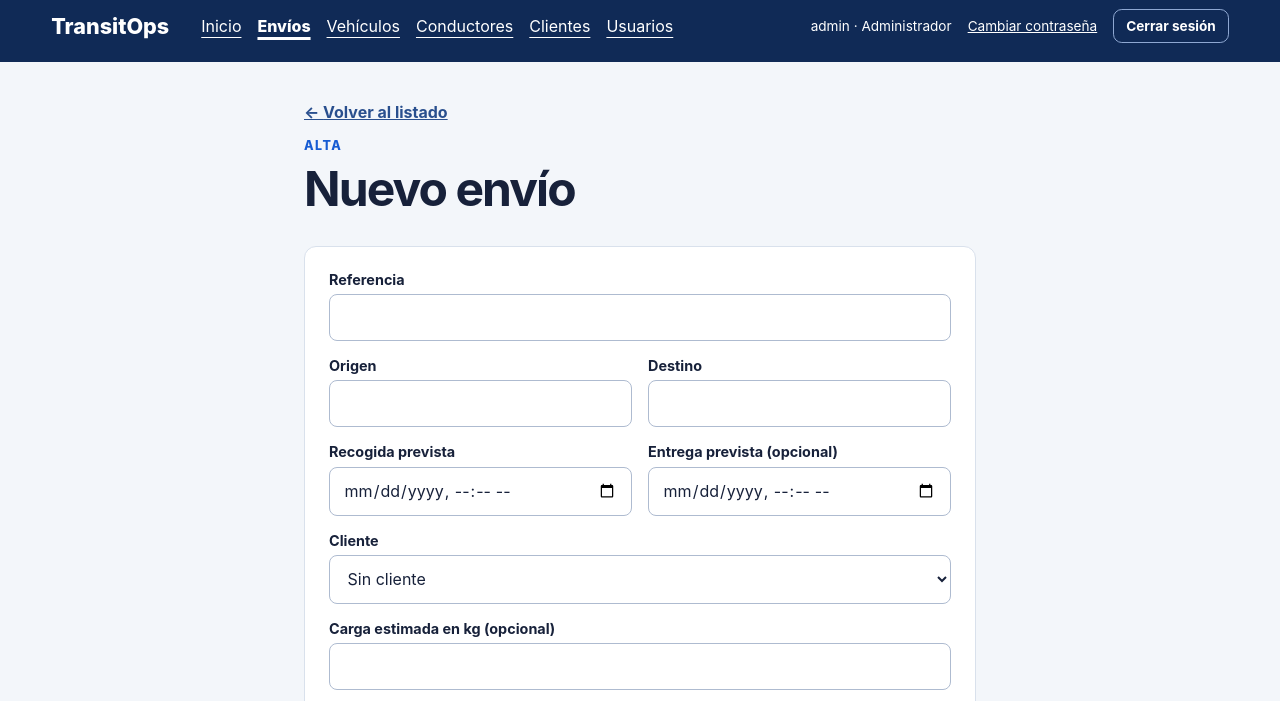
envíos › creates a shipment with ISO pickup and omits status and empty customer
The width and height of the screenshot is (1280, 701).
Type "ENV-001" into the field labelled "Referencia".
click(640, 317); type("ENV-001")  # box [329,294,951,341]
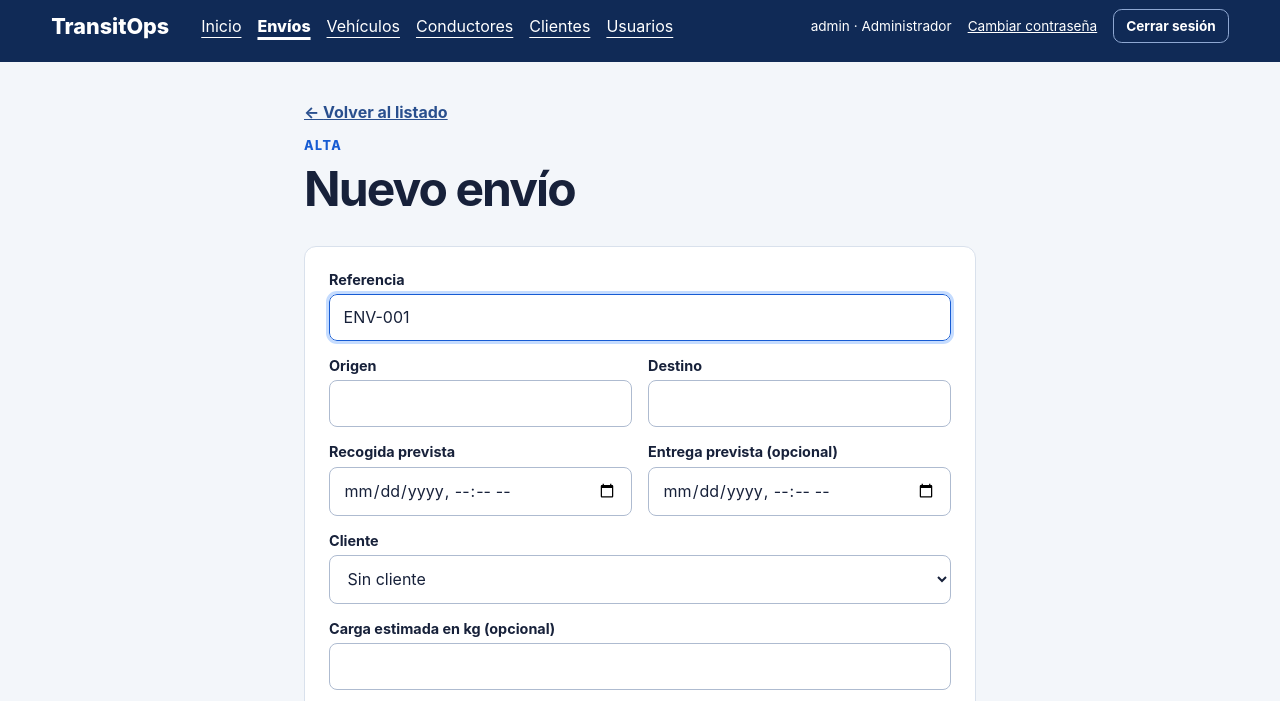
Type "Madrid" into the field labelled "Origen".
click(480, 404); type("Madrid")  # box [329,380,632,427]
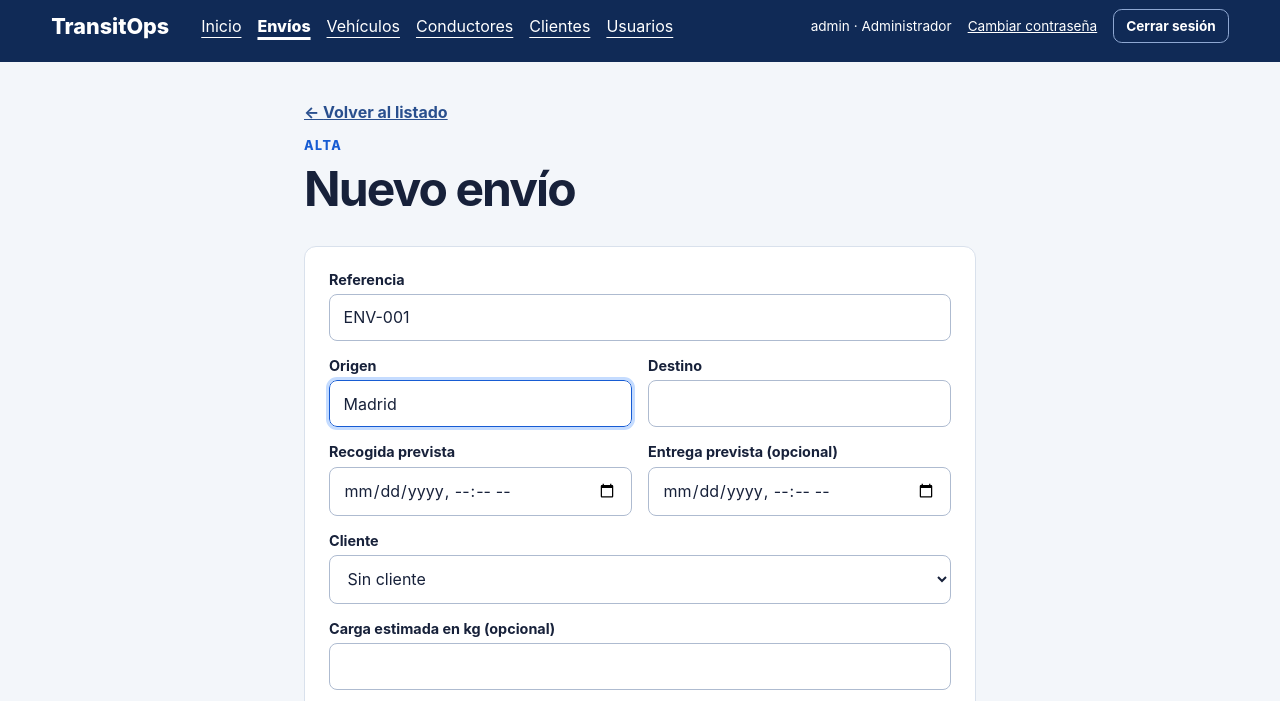
Type "Barcelona" into the field labelled "Destino".
click(800, 404); type("Barcelona")  # box [648,380,951,427]
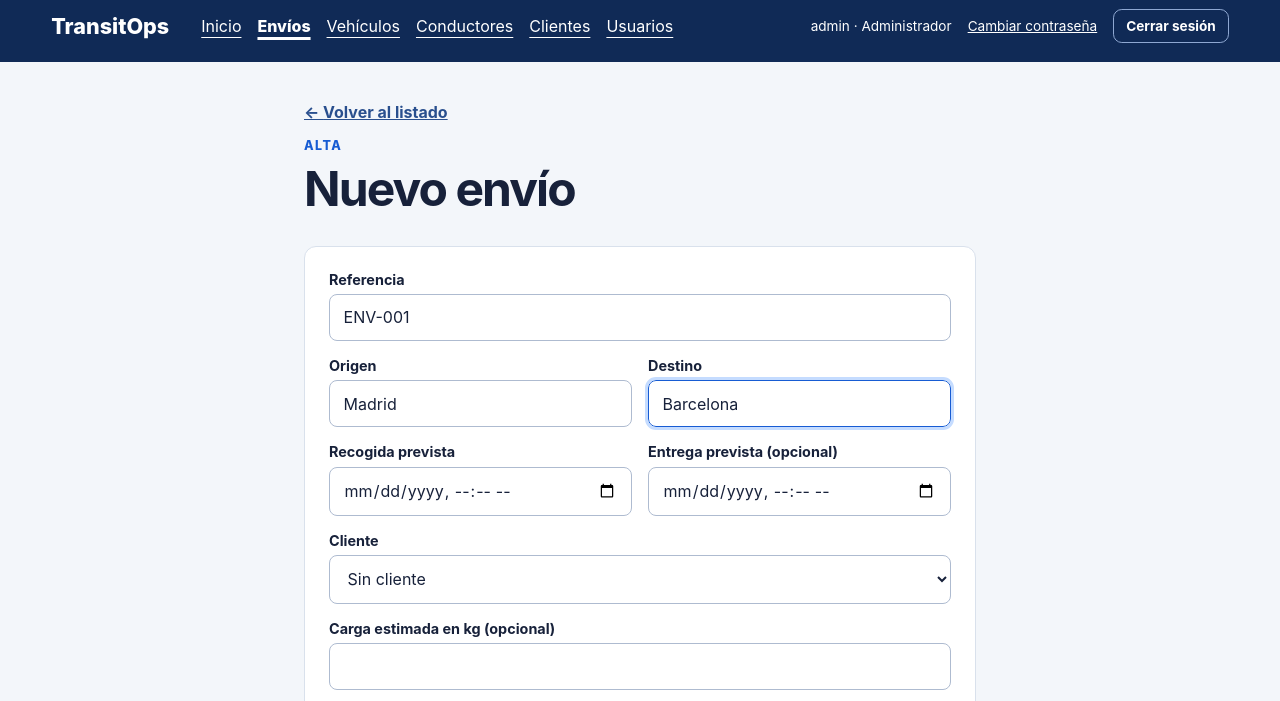
Type "2026-08-01T10:00" into the field labelled "Recogida prevista".
click(480, 491); type("2026-08-01T10:00")  # box [329,467,632,516]
(page scrolled)
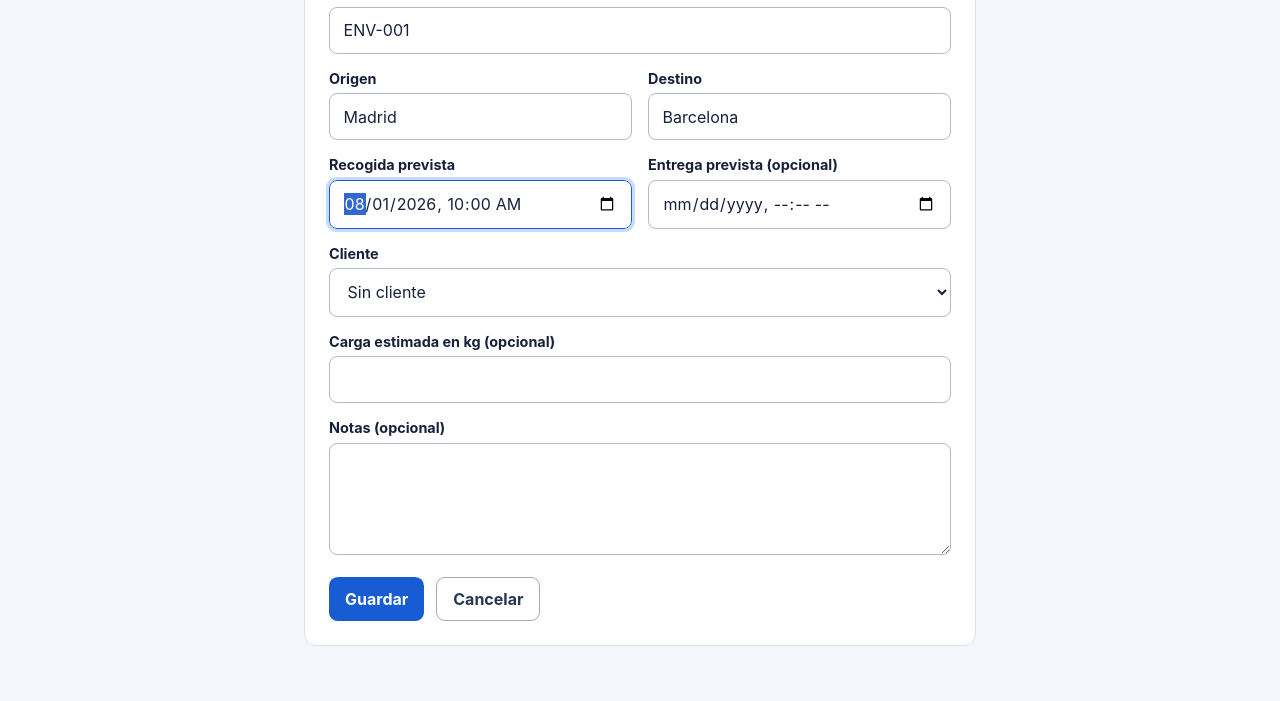
Click the button "Guardar".
click(377, 599)  # box [329,577,424,621]
(page scrolled)
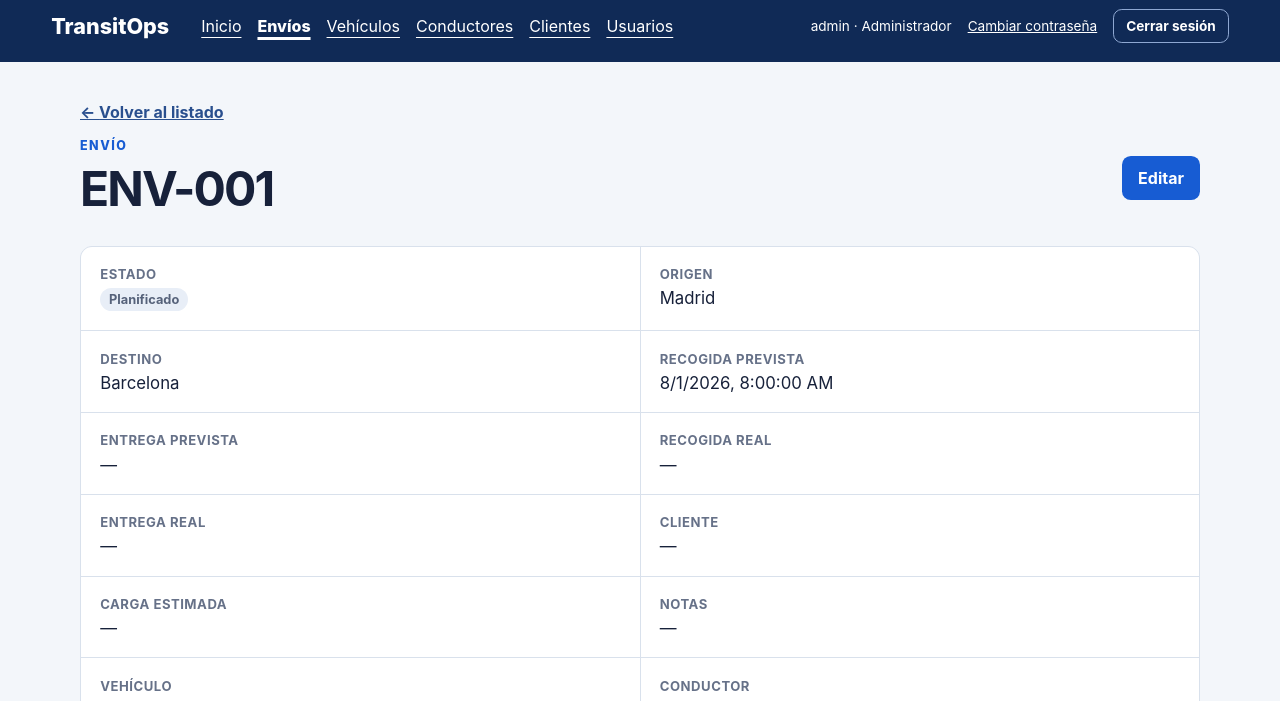
Now the heading "ENV-001" is shown, box [80,159,273,218]
